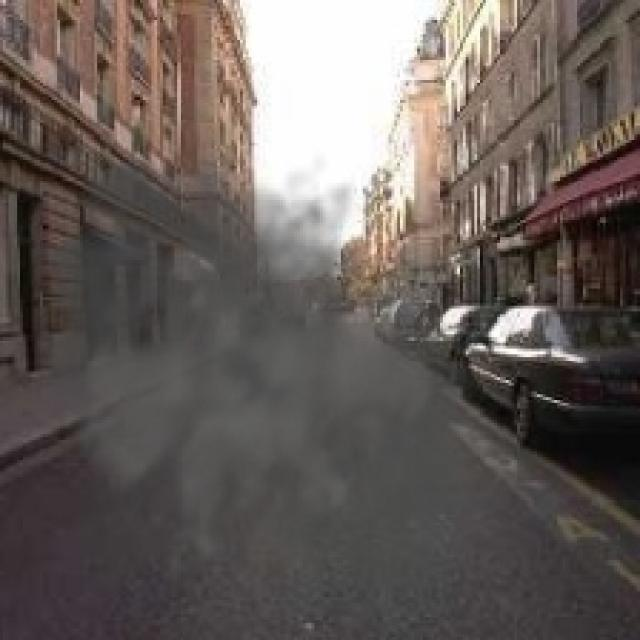smoke: (0, 120, 520, 637)
